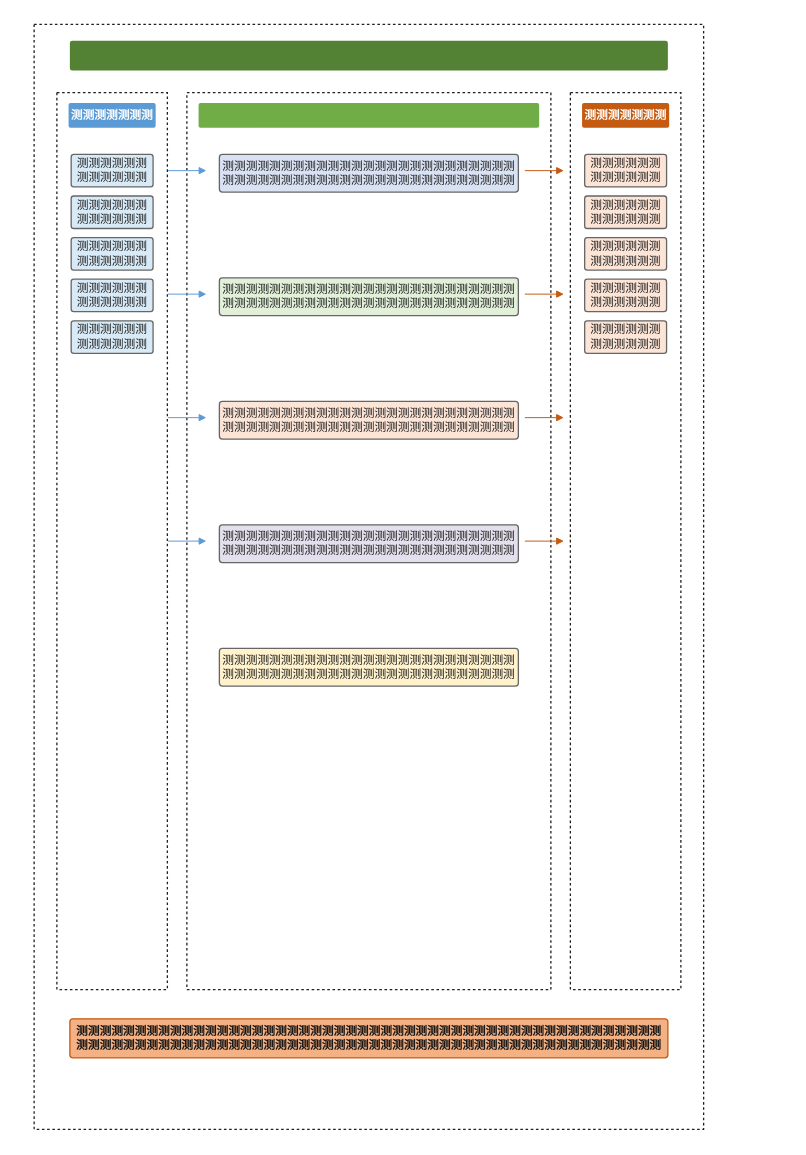
This 806x1155 diagram has some shape labels left out. The box of each missing label's shape, as (x1, y1, x2, y2) in pixels:
测测测测测测测测测测测测测测测测测测测测测测测测测测测测: (198, 103, 539, 127)
测测测测测测测测测测测测测测测测测测测测测测测测测测测测测测测测测测测测测测测测测测测测测: (70, 40, 668, 70)
